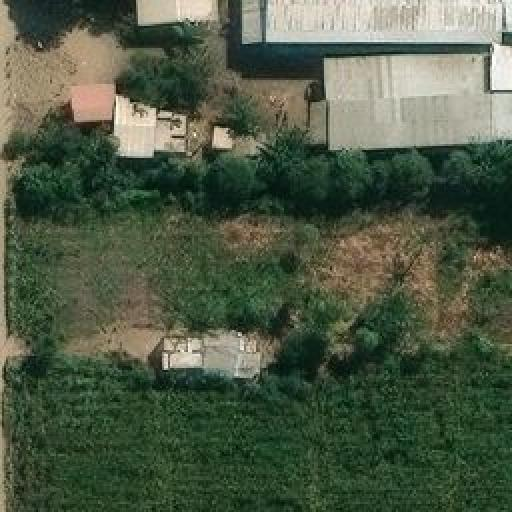manzanas: (72, 0, 510, 161), (155, 328, 264, 375)
